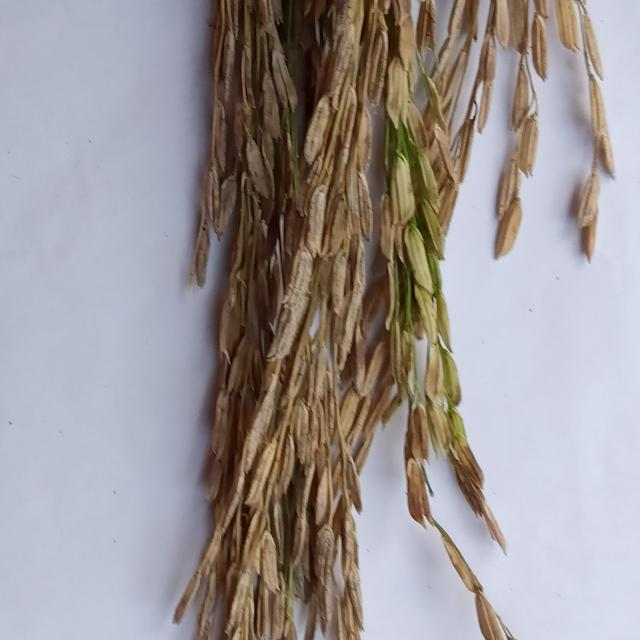Neck_Blast: (155, 0, 429, 640), (413, 0, 611, 259)
